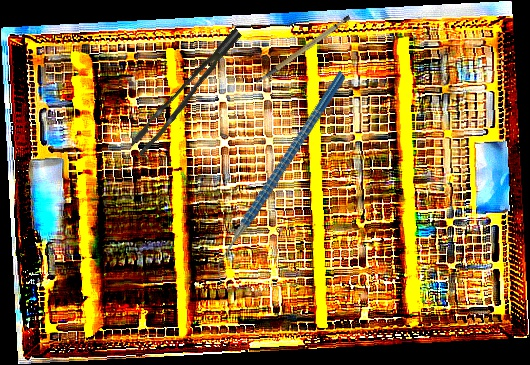Chopper: (161, 69, 401, 288)
Scalpel Handle: (246, 13, 358, 85)
Tissue Forceps: (119, 27, 257, 157)
